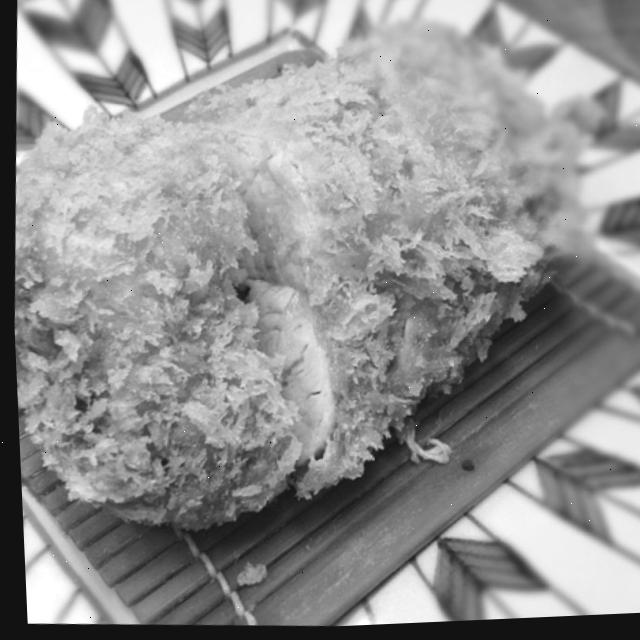牛肉菜式: (0, 0, 640, 634)
